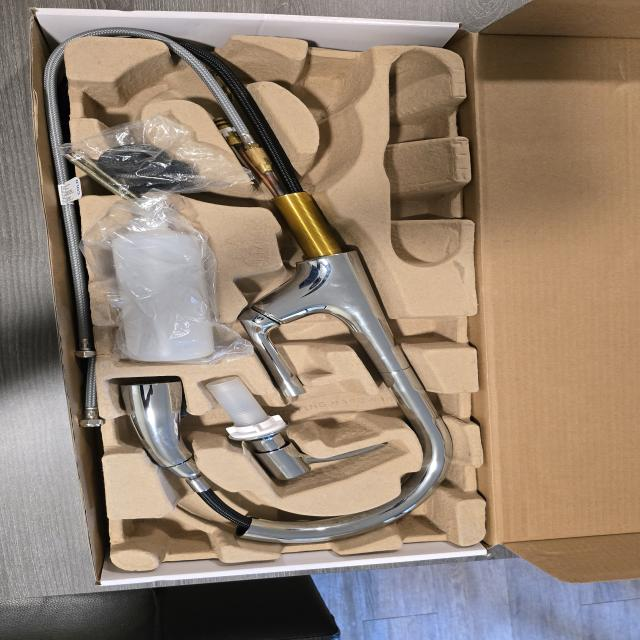1: (118, 33, 454, 544)
2: (203, 374, 387, 481)
3o: (110, 197, 218, 363)
4m: (380, 48, 461, 268)
5m: (290, 57, 373, 117)
6m: (84, 61, 178, 134)
7: (58, 111, 256, 213)
